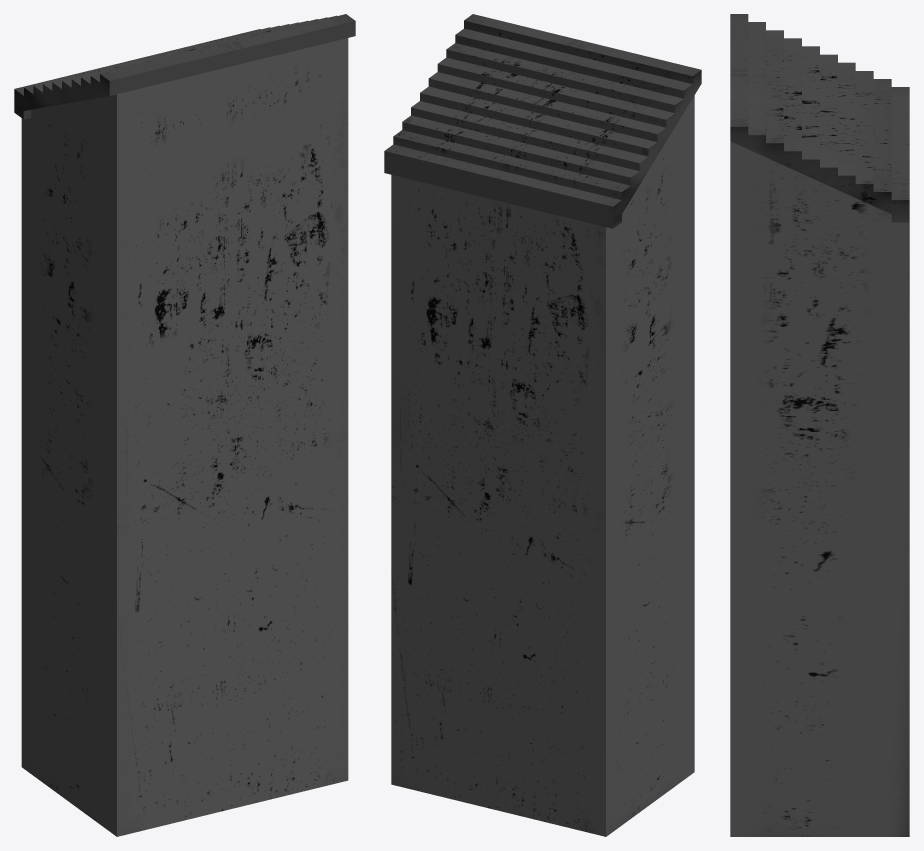
The model's file is Base_Ground_2x3_Stair_V1.fbx.
The picture shows the model from 3 angles, left to right: view 1: azimuth 30°, elevation 25°; view 2: azimuth 150°, elevation 25°; view 3: azimuth 270°, elevation 25°; orthographic projection. The views are drawn at different scales.
Visible parts, largest first — view 1: Base Ground 2x3 Stair V1; view 2: Base Ground 2x3 Stair V1; view 3: Base Ground 2x3 Stair V1.
Part boxes in pixels (x1,y1,x2,y2): Base Ground 2x3 Stair V1: [14, 14, 355, 836]; Base Ground 2x3 Stair V1: [384, 14, 701, 836]; Base Ground 2x3 Stair V1: [730, 14, 909, 836].
Size of the model in its own units: 298 by 878 by 200.
